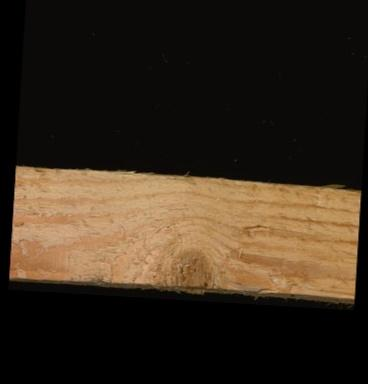edge_knot: (154, 247, 214, 295)
wave: (223, 279, 287, 298)
